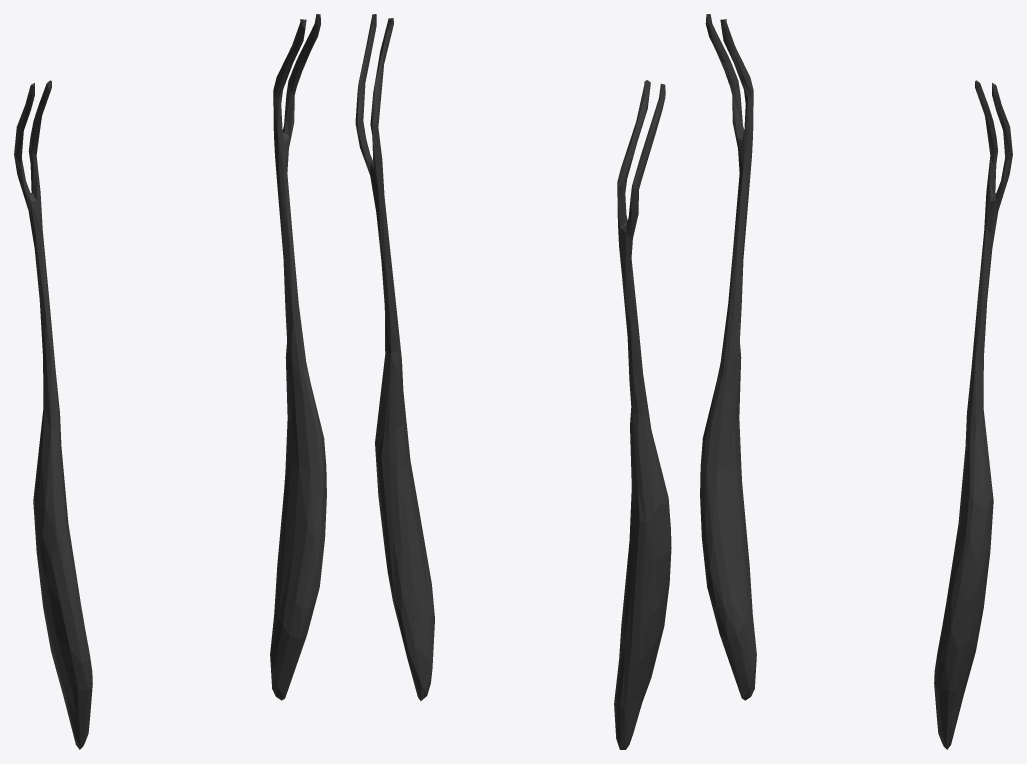
The model's file is m_flexor_carpi_radialis.glb.
The picture shows the model from 3 angles, left to right: view 1: azimuth 30°, elevation 25°; view 2: azimuth 150°, elevation 25°; view 3: azimuth 330°, elevation 25°; orthographic projection.
Visible parts, largest first — view 1: m_flexor_carpi_radialis; view 2: m_flexor_carpi_radialis; view 3: m_flexor_carpi_radialis.
Part boxes in pixels (box(x1,y1,x2,y2)): m_flexor_carpi_radialis: box(14, 14, 326, 749); m_flexor_carpi_radialis: box(355, 14, 671, 749); m_flexor_carpi_radialis: box(700, 14, 1012, 749).
Bounding box in the file's own units: 0.00324 × 0.00714 × 0.000862.
1 material, 1 textured.
